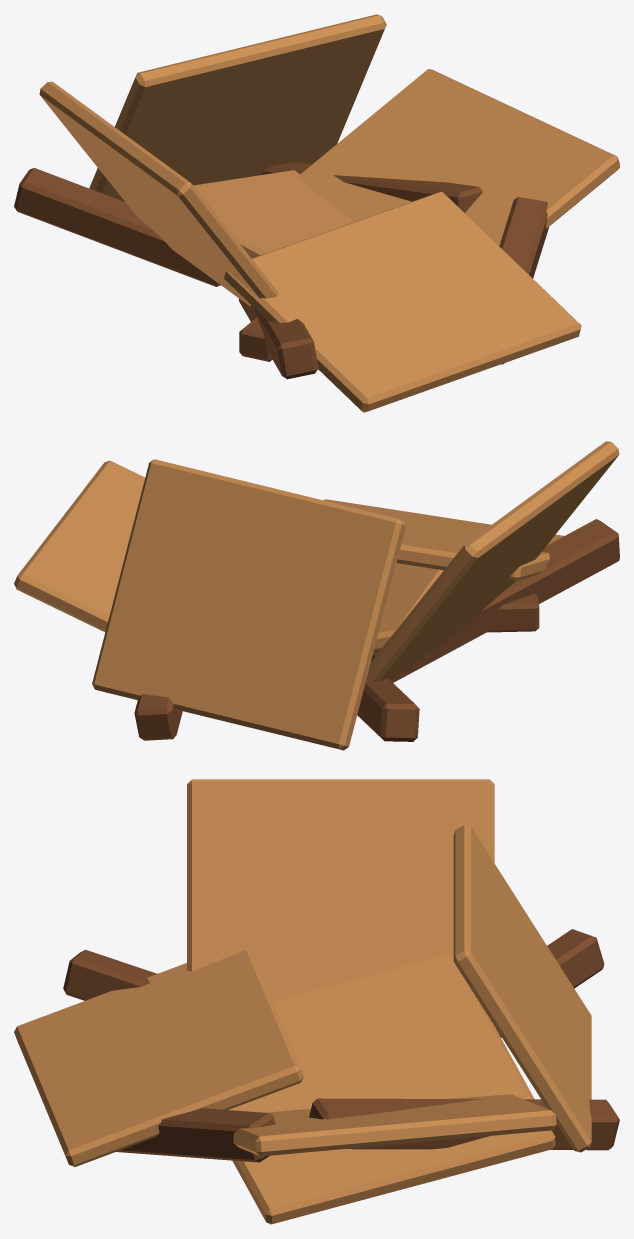
The model's file is prop_crate_b_broken.glb.
The picture shows the model from 3 angles, top to bottom: view 1: azimuth 30°, elevation 25°; view 2: azimuth 150°, elevation 25°; view 3: azimuth 270°, elevation 25°; orthographic projection. The views are drawn at different scales.
Parts seen in each view (by area): view 1: prop_crate_b_chunk_04, prop_crate_b_chunk_03, prop_crate_b_chunk_02, prop_crate_b_chunk_01, prop_crate_b_chunk_06, prop_crate_b_chunk_07, prop_crate_b_chunk_05, prop_crate_b_chunk_08; view 2: prop_crate_b_chunk_03, prop_crate_b_chunk_01, prop_crate_b_chunk_02, prop_crate_b_chunk_05, prop_crate_b_chunk_04, prop_crate_b_chunk_06, prop_crate_b_chunk_07, prop_crate_b_chunk_08; view 3: prop_crate_b_chunk_01, prop_crate_b_chunk_07, prop_crate_b_chunk_04, prop_crate_b_chunk_03, prop_crate_b_chunk_02, prop_crate_b_chunk_05, prop_crate_b_chunk_06.
Part boxes in pixels (x1,y1,x2,y2): prop_crate_b_chunk_04: [224, 191, 581, 412]; prop_crate_b_chunk_03: [89, 14, 386, 201]; prop_crate_b_chunk_02: [297, 69, 619, 245]; prop_crate_b_chunk_01: [39, 81, 278, 305]; prop_crate_b_chunk_06: [14, 168, 548, 364]; prop_crate_b_chunk_07: [193, 170, 353, 258]; prop_crate_b_chunk_05: [238, 162, 482, 379]; prop_crate_b_chunk_08: [239, 317, 272, 361]; prop_crate_b_chunk_03: [92, 459, 405, 750]; prop_crate_b_chunk_01: [366, 441, 619, 681]; prop_crate_b_chunk_02: [14, 460, 145, 631]; prop_crate_b_chunk_05: [134, 519, 619, 740]; prop_crate_b_chunk_04: [323, 499, 563, 581]; prop_crate_b_chunk_06: [357, 678, 419, 741]; prop_crate_b_chunk_07: [373, 563, 443, 652]; prop_crate_b_chunk_08: [487, 593, 539, 632]; prop_crate_b_chunk_01: [187, 779, 494, 1001]; prop_crate_b_chunk_07: [229, 954, 555, 1224]; prop_crate_b_chunk_04: [14, 950, 303, 1166]; prop_crate_b_chunk_03: [453, 825, 591, 1152]; prop_crate_b_chunk_02: [233, 1094, 556, 1156]; prop_crate_b_chunk_05: [63, 949, 619, 1150]; prop_crate_b_chunk_06: [116, 929, 604, 1162].
Size of the model in its own units: 0.9119 by 0.4205 by 0.936.
